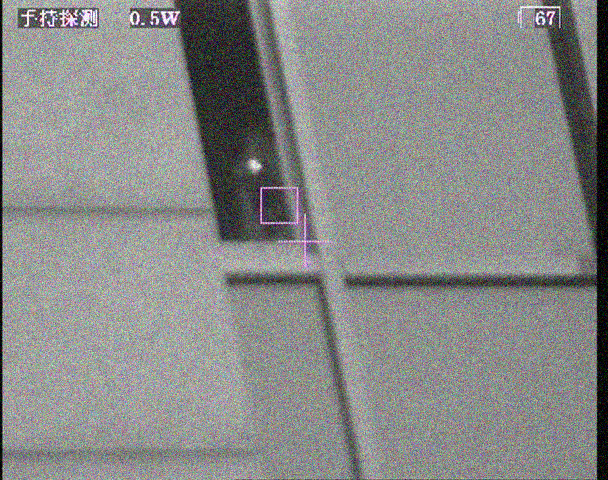my: (246, 157, 262, 172)
